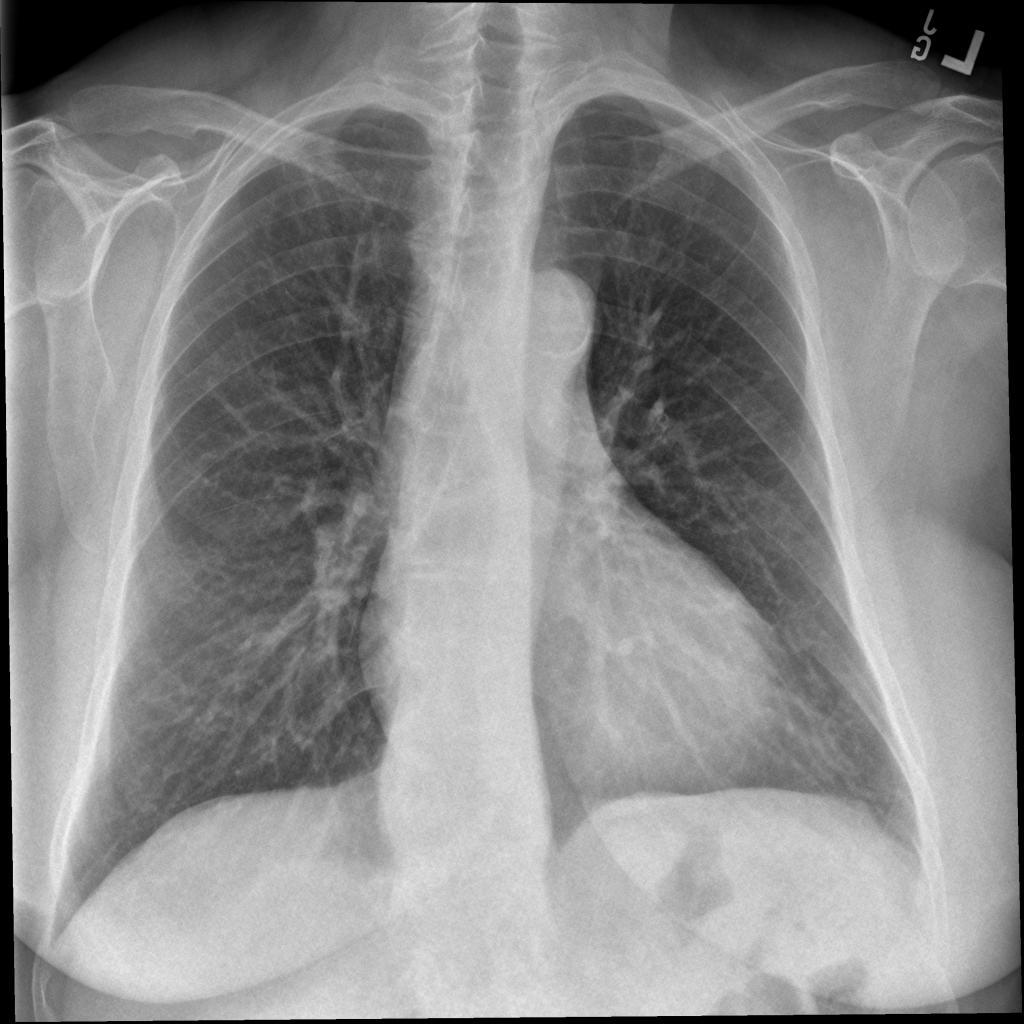Nodule: (101, 46, 151, 85)
